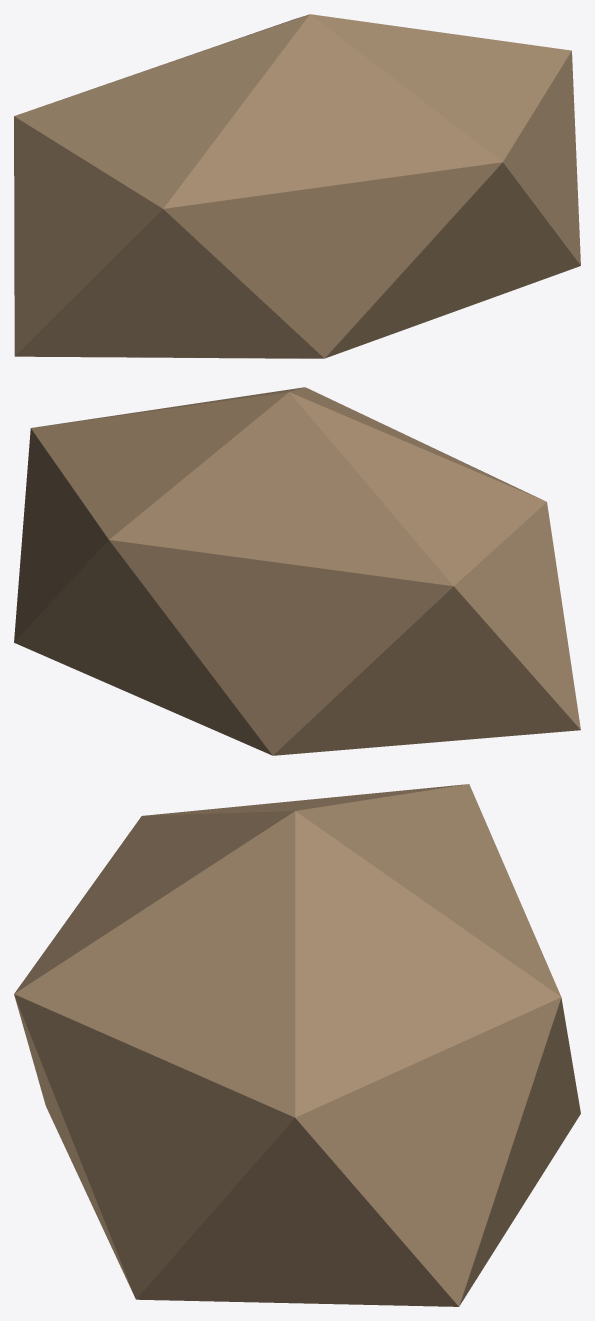
The model's file is item_020_roots_s.glb.
The picture shows the model from 3 angles, top to bottom: view 1: azimuth 30°, elevation 25°; view 2: azimuth 150°, elevation 25°; view 3: azimuth 270°, elevation 25°; orthographic projection. The views are drawn at different scales.
Visible parts, largest first — view 1: item_020_roots_s; view 2: item_020_roots_s; view 3: item_020_roots_s.
Part boxes in pixels (x1,y1,x2,y2): item_020_roots_s: [14, 14, 580, 358]; item_020_roots_s: [14, 387, 580, 755]; item_020_roots_s: [14, 784, 580, 1306].
Size of the model in its own units: 0.3192 by 0.1886 by 0.2091.
